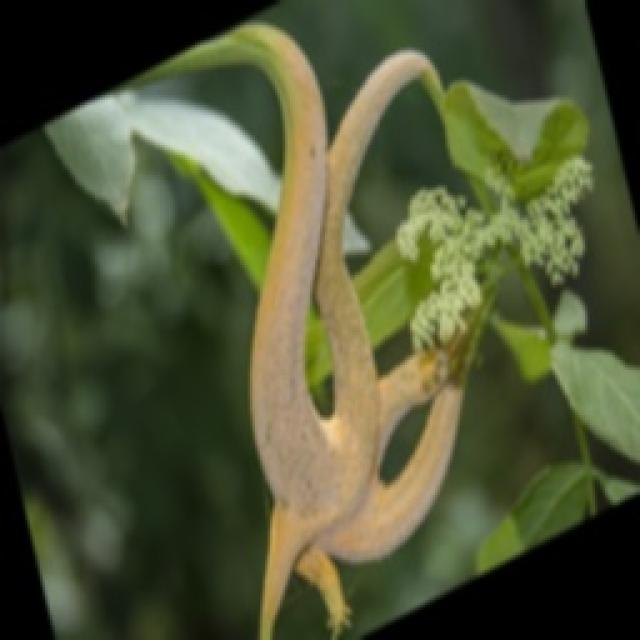Elderberry_rust: (235, 20, 473, 638)
